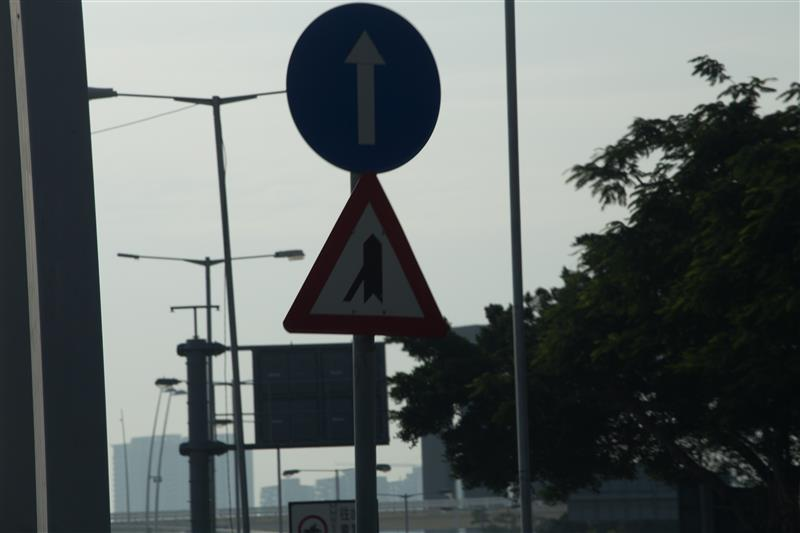junctionWithMinorRoad: (280, 177, 452, 332)
straightOnly: (286, 1, 440, 175)
